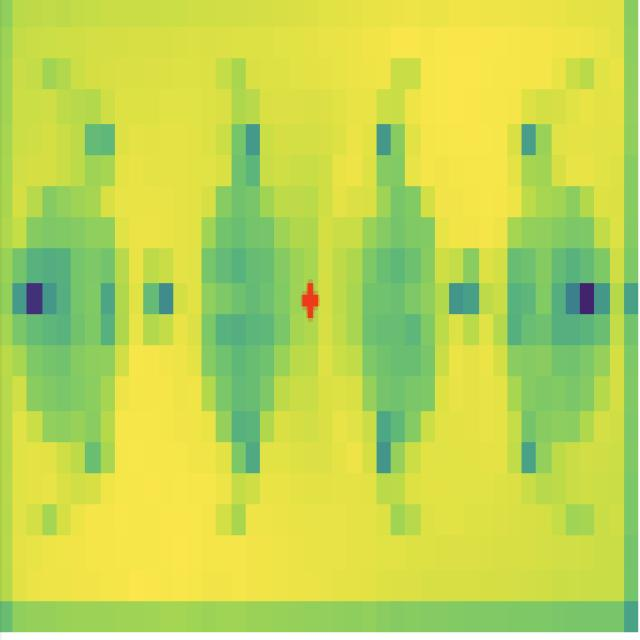Concrete: (23, 171, 132, 485)
Glass: (483, 165, 611, 493)
Metal: (200, 135, 299, 462)
Wood: (339, 158, 444, 482)
